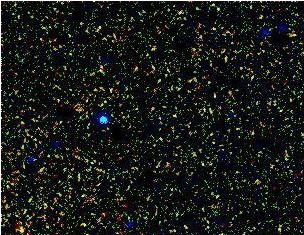star: (4, 212, 34, 235)
